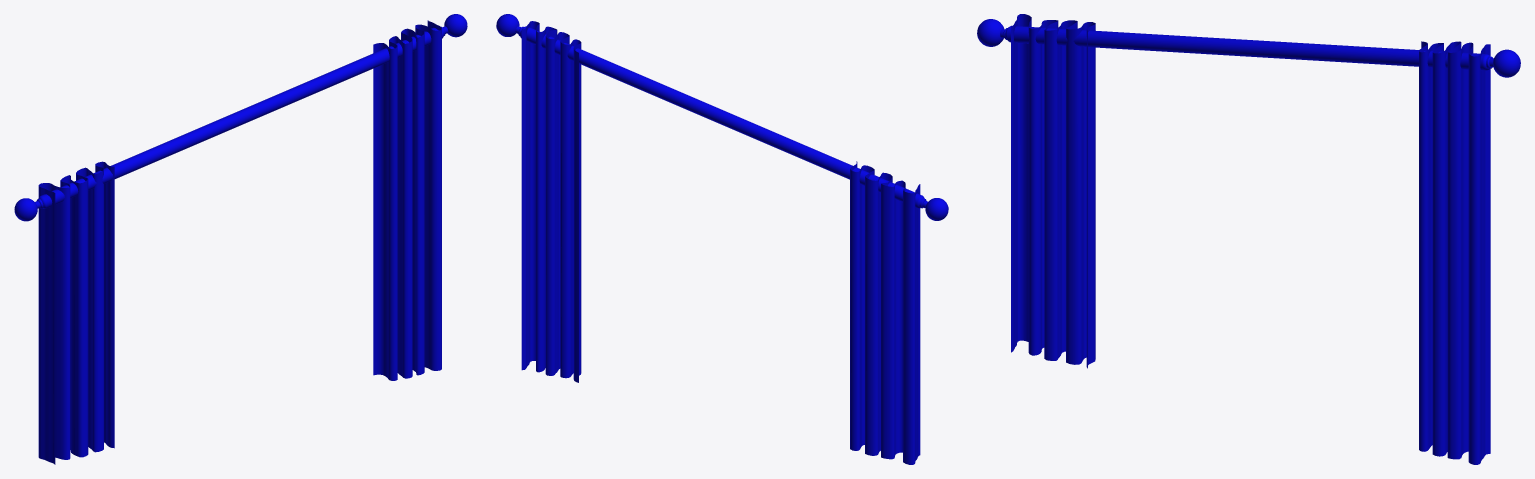
The model's file is Curtain_msh.fbx.
3 views of the same model, side by side, from view 1: azimuth 30°, elevation 25°; view 2: azimuth 150°, elevation 25°; view 3: azimuth 330°, elevation 25° (orthographic). The views are drawn at different scales.
Visible parts, largest first — view 1: CurtainA_msh, RailA_msh; view 2: CurtainA_msh, RailA_msh; view 3: CurtainA_msh, RailA_msh.
Part boxes in pixels (box(x1,y1,x2,y2)): CurtainA_msh: box(38, 20, 441, 464); RailA_msh: box(14, 14, 467, 221); CurtainA_msh: box(521, 21, 920, 464); RailA_msh: box(496, 14, 948, 220); CurtainA_msh: box(1011, 14, 1490, 464); RailA_msh: box(977, 19, 1520, 77).
Size of the model in its own units: 223 by 164 by 11.36.
